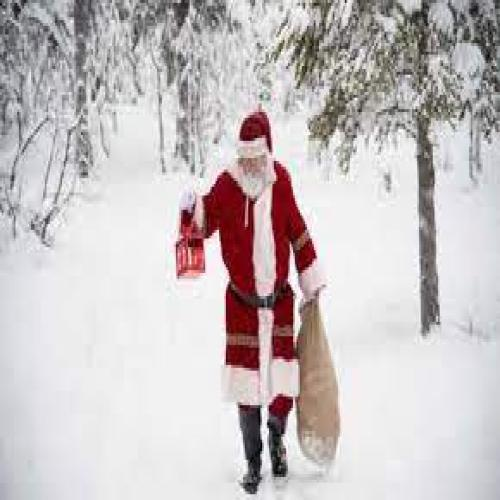Santa: (176, 110, 342, 500)
